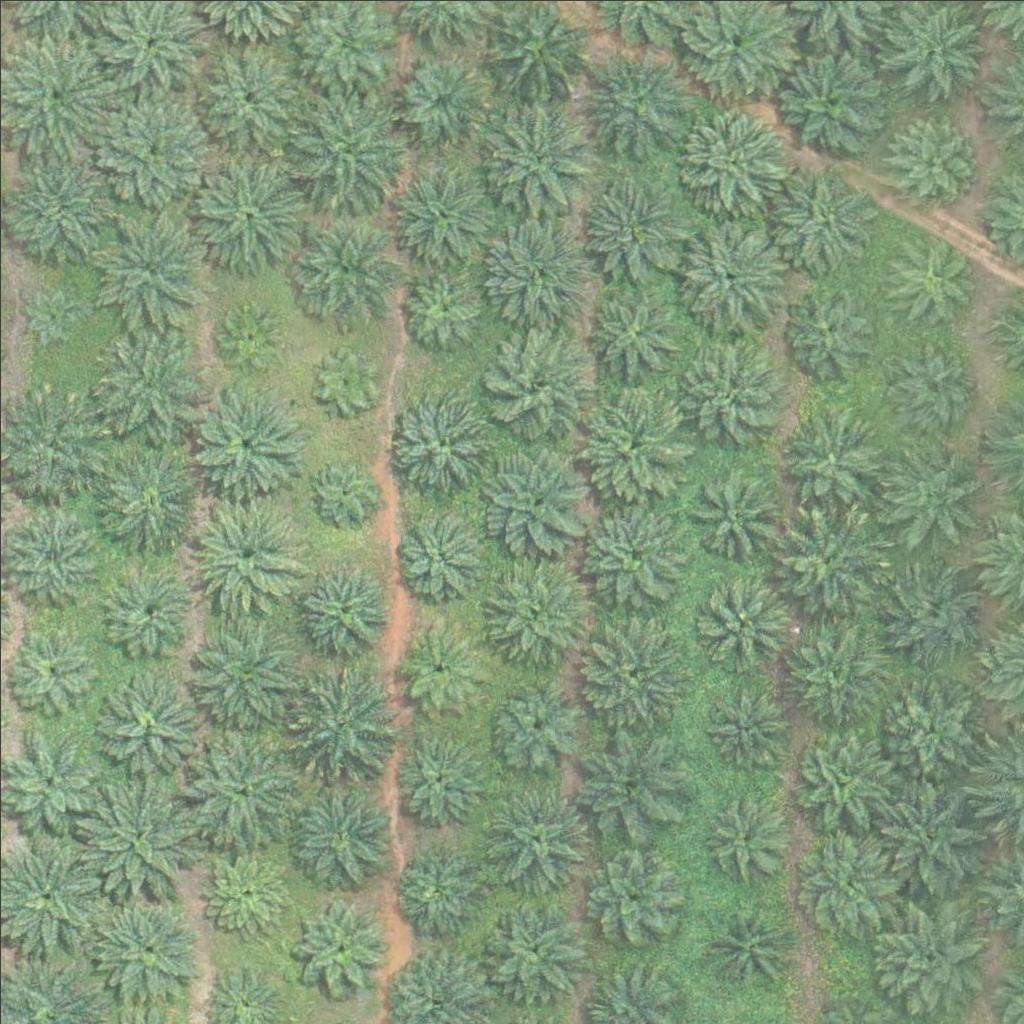Kelapa_Sawit: (477, 892, 590, 1006), (280, 776, 393, 890), (288, 663, 401, 777), (767, 164, 880, 278), (871, 899, 984, 1012), (571, 612, 684, 725), (576, 493, 689, 606), (282, 555, 395, 668), (190, 493, 303, 606), (90, 888, 203, 1001), (97, 216, 210, 329), (93, 93, 206, 206), (188, 382, 301, 495), (191, 156, 304, 269), (483, 327, 596, 440), (479, 214, 592, 327), (478, 99, 591, 212), (578, 389, 691, 502), (576, 269, 689, 382), (775, 44, 888, 157), (183, 731, 295, 845), (186, 619, 298, 733), (89, 551, 201, 665), (92, 439, 204, 553), (581, 49, 693, 163), (671, 218, 783, 332), (675, 97, 787, 211), (875, 433, 987, 547), (872, 775, 984, 888), (875, 557, 987, 670), (771, 605, 883, 718), (572, 733, 684, 846), (479, 786, 591, 899), (482, 555, 594, 668), (82, 782, 194, 895), (88, 669, 200, 782), (89, 327, 201, 440), (192, 37, 304, 150), (288, 210, 400, 323), (289, 88, 401, 201), (380, 383, 492, 496), (386, 152, 498, 265), (480, 442, 592, 555), (576, 167, 688, 280), (670, 335, 782, 448), (774, 501, 886, 614), (877, 674, 977, 775), (788, 829, 888, 930), (790, 732, 890, 833), (698, 890, 798, 991), (691, 572, 791, 673), (582, 849, 682, 950), (485, 678, 585, 779), (1, 732, 101, 833), (390, 47, 490, 148), (685, 463, 785, 564), (388, 841, 488, 941), (388, 727, 488, 827), (291, 895, 391, 995), (782, 405, 882, 505), (781, 275, 881, 375), (882, 232, 982, 332), (395, 507, 483, 595), (201, 848, 289, 936), (398, 267, 486, 355), (701, 681, 788, 770), (698, 795, 785, 883), (396, 623, 483, 711), (5, 626, 92, 714), (893, 336, 980, 424), (886, 117, 973, 205), (217, 305, 280, 368), (309, 459, 372, 522), (314, 348, 377, 411), (21, 285, 83, 348)
